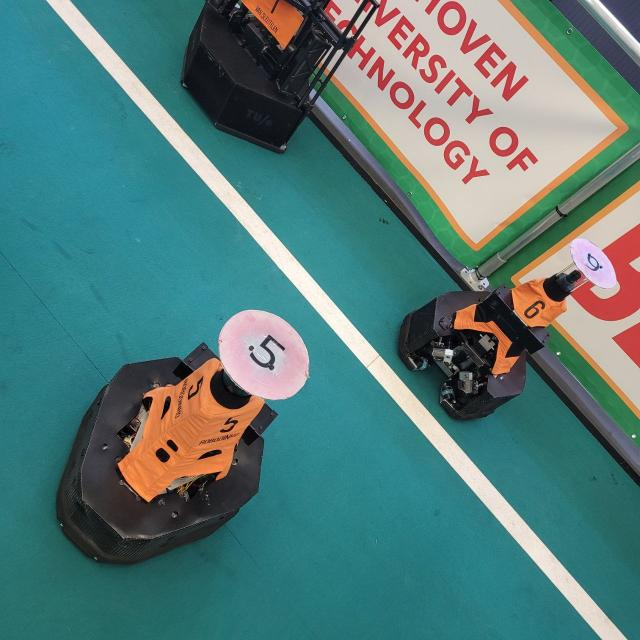Robots: (57, 300, 310, 579), (372, 199, 618, 423)
